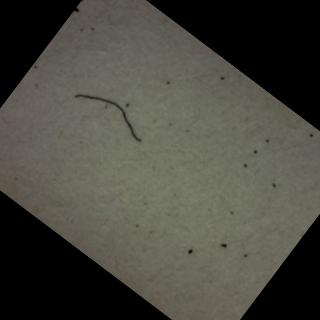Microplastic: (46, 53, 180, 176)
